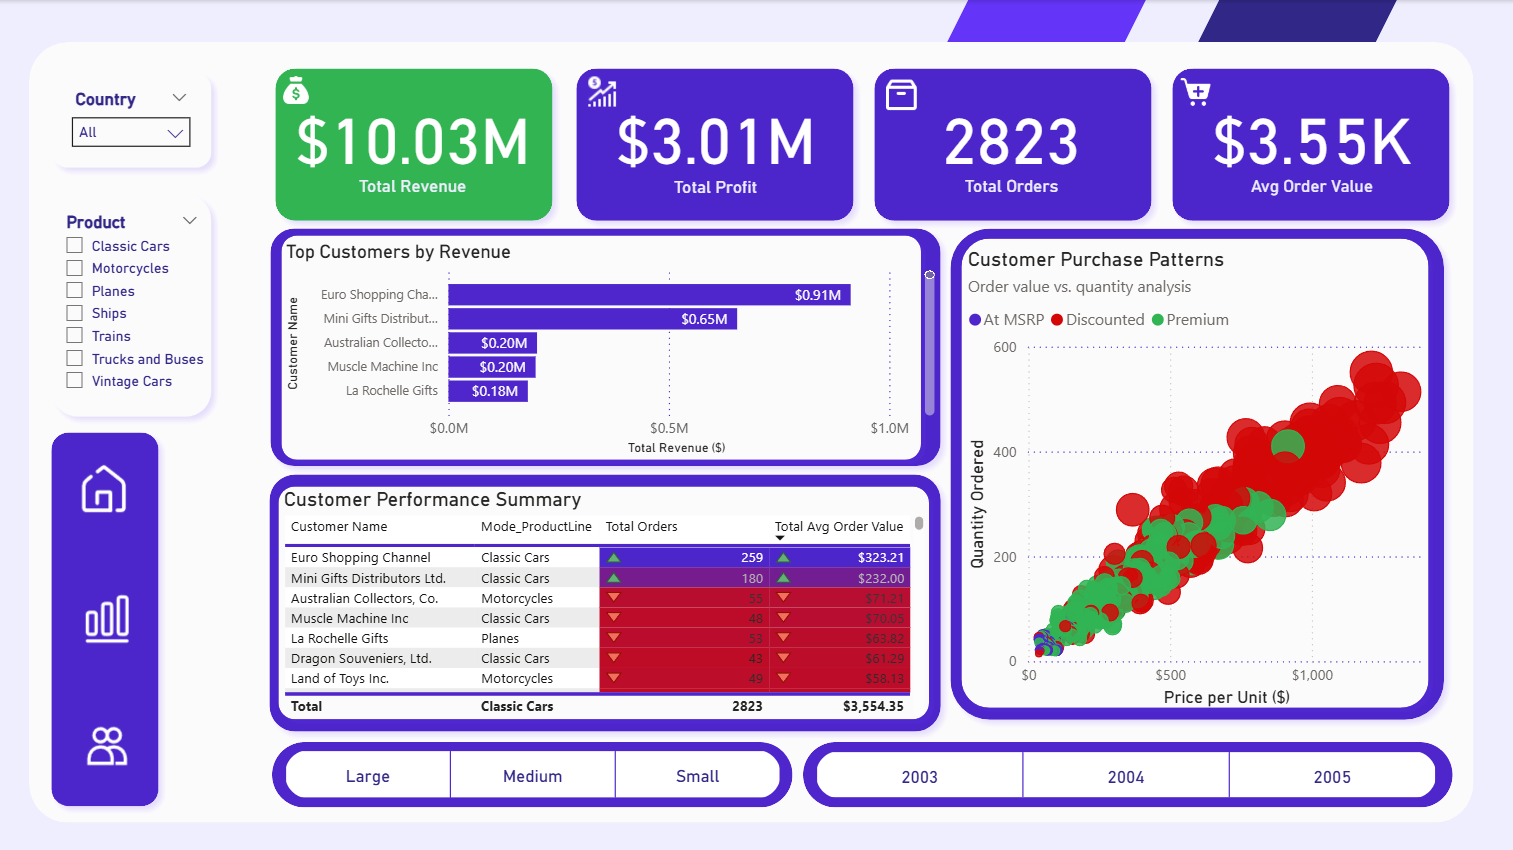

The page's visual inventory and layout, read from the dashboard file:
{"tool":"powerbi","page":{"name":"Customer Analytics","canvas":[1280,720],"ordinal":2},"visuals":[{"type":"shape","box":[668.3,0,300.2,300.2],"z":0},{"type":"shape","box":[880.5,0,300.2,300.2],"z":1000},{"type":"shape","box":[27.2,35.4,1217.8,658.3],"z":2000},{"type":"shape","box":[225.8,49,251.2,146],"z":3000},{"type":"card","fields":{"Values":["Sum(Sales.SALES)"]},"box":[222.2,63.5,255.7,113.4],"z":4000},{"type":"shape","box":[479.7,49,251.2,146],"z":5000},{"type":"shape","box":[730.9,49,251.2,146],"z":6000},{"type":"shape","box":[982.1,49,251.2,146],"z":7000},{"type":"card","fields":{"Values":["Sum(Sales.Profit Margin)"]},"box":[484.2,63.5,243.9,114.3],"z":8000},{"type":"card","fields":{"Values":["CountNonNull(Sales.ORDERNUMBER)"]},"box":[734.5,63.5,242.1,113.4],"z":9000},{"type":"card","fields":{"Values":["Sum(Sales.Avg Order Value)"]},"box":[995.7,63.5,225.8,113.4],"z":10000},{"type":"shape","box":[232.1,625.7,438.9,55.3],"z":11000},{"type":"advancedSlicerVisual","fields":{"Values":["Sales.DEALSIZE"]},"box":[237.6,627.5,428,51.7],"z":12000},{"type":"shape","box":[679.2,625.7,547.7,55.3],"z":13000},{"type":"advancedSlicerVisual","fields":{"Values":["Sales.YEAR"]},"box":[685.5,628.4,535,50.8],"z":14000},{"type":"shape","box":[38.1,53.5,151.4,97],"z":15000},{"type":"slicer","fields":{"Values":["Sales.COUNTRY"]},"box":[53.5,70.7,119.7,63.5],"z":16000},{"type":"shape","box":[37,356,107.9,332.7],"z":17000,"group":"g1"},{"type":"shape","box":[38.1,155.1,151.4,204.9],"z":17000},{"type":"actionButton","box":[66.1,491.8,52.6,60.8],"z":18000,"group":"g1"},{"type":"slicer","fields":{"Values":["Sales.PRODUCTLINE"]},"box":[45.3,174.1,136,166.9],"z":18000},{"type":"actionButton","box":[61.6,382.9,57.1,58.9],"z":19000,"group":"g1"},{"type":"shape","box":[220.8,391,583.6,234.4],"z":19000},{"type":"actionButton","box":[66.1,602.4,52.6,52.6],"z":20000,"group":"g1"},{"type":"shape","box":[228.6,401.7,566.1,214],"z":20000},{"type":"shape","box":[221.8,183.8,582.6,217.9],"z":21000},{"type":"shape","box":[231.2,189.5,556.8,206.8],"z":22000},{"type":"shape","box":[794.7,183.8,433.8,431.9],"z":23000},{"type":"shape","box":[804.4,192.6,411.4,413.4],"z":24000},{"type":"tableEx","title":"Customer Performance Summary","fields":{"Values":["Sales.CUSTOMERNAME","Sales.Mode_ProductLine","CountNonNull(Sales.ORDERNUMBER)","Sum(Sales.Avg Order Value)"]},"box":[237.3,410.5,549.5,198.4],"z":25000},{"type":"scatterChart","title":"Customer Purchase Patterns","fields":{"Size":["Sum(data.SALES)"],"Y":["Sum(data.QUANTITYORDERED)"],"Series":["Sales.Price Position"],"X":["Sum(Sales.PRICEEACH)"],"Category":["Sales.ORDERNUMBER"]},"box":[813.4,208.6,413.5,392.6],"z":26000},{"type":"barChart","title":"Top Customers by Revenue","fields":{"Category":["Sales.CUSTOMERNAME"],"Y":["Sum(Sales.SALES)"]},"box":[238.5,202.2,556.8,185.9],"z":27000},{"type":"image","box":[741.8,56.2,40.8,46.2],"z":28000},{"type":"image","box":[234,57.1,37.2,38.1],"z":29000},{"type":"image","box":[989.3,58.9,43.5,38.1],"z":30000},{"type":"image","box":[487.9,53.5,44.4,49],"z":31000},{"type":"group","id":"g1","title":"Group 1","box":[37,356,107.9,332.7],"z":32000}]}

Visuals, with their boxes in screenshot pixels (x1, y1, x2, y2), scaled from the page's 1280x720 canvas onto the 1513x850 screenshot:
shape: (790, 0, 1145, 354)
shape: (1041, 0, 1396, 354)
shape: (32, 42, 1472, 819)
shape: (267, 58, 564, 230)
card - Sum(Sales.SALES): (263, 75, 565, 209)
shape: (567, 58, 864, 230)
shape: (864, 58, 1161, 230)
shape: (1161, 58, 1458, 230)
card - Sum(Sales.Profit Margin): (572, 75, 861, 210)
card - CountNonNull(Sales.ORDERNUMBER): (868, 75, 1154, 209)
card - Sum(Sales.Avg Order Value): (1177, 75, 1444, 209)
shape: (274, 739, 793, 804)
advancedSlicerVisual - Sales.DEALSIZE: (281, 741, 787, 802)
shape: (803, 739, 1450, 804)
advancedSlicerVisual - Sales.YEAR: (810, 742, 1443, 802)
shape: (45, 63, 224, 178)
slicer - Sales.COUNTRY: (63, 83, 205, 158)
shape: (44, 420, 171, 813)
shape: (45, 183, 224, 425)
actionButton: (78, 581, 140, 652)
slicer - Sales.PRODUCTLINE: (54, 206, 214, 403)
actionButton: (73, 452, 140, 522)
shape: (261, 462, 951, 738)
actionButton: (78, 711, 140, 773)
shape: (270, 474, 939, 727)
shape: (262, 217, 951, 474)
shape: (273, 224, 931, 468)
shape: (939, 217, 1452, 727)
shape: (951, 227, 1437, 715)
"Customer Performance Summary" tableEx: (280, 485, 930, 719)
"Customer Purchase Patterns" scatterChart: (961, 246, 1450, 710)
"Top Customers by Revenue" barChart: (282, 239, 940, 458)
image: (877, 66, 925, 121)
image: (277, 67, 321, 112)
image: (1169, 70, 1221, 115)
image: (577, 63, 629, 121)
"Group 1" group: (44, 420, 171, 813)
